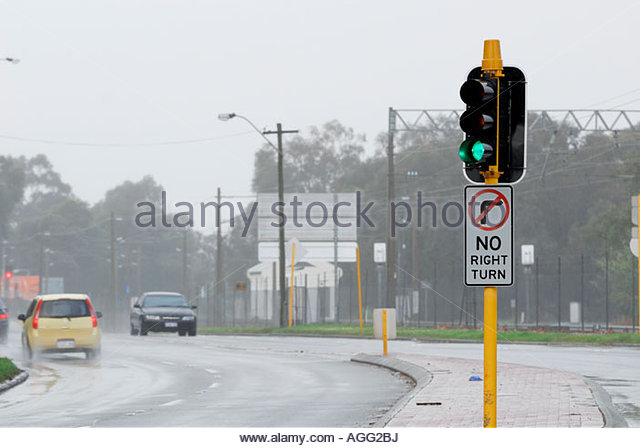No_right_turn: (469, 189, 510, 231)
